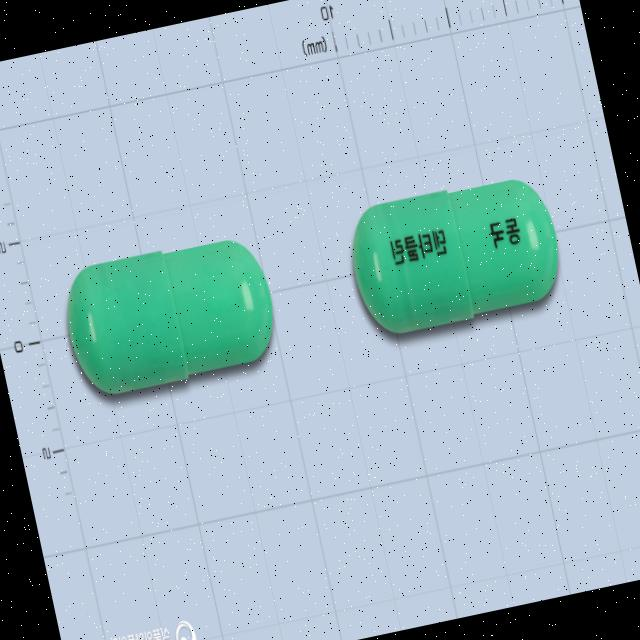Dentacline Cap: (53, 226, 285, 403), (339, 165, 570, 342)
